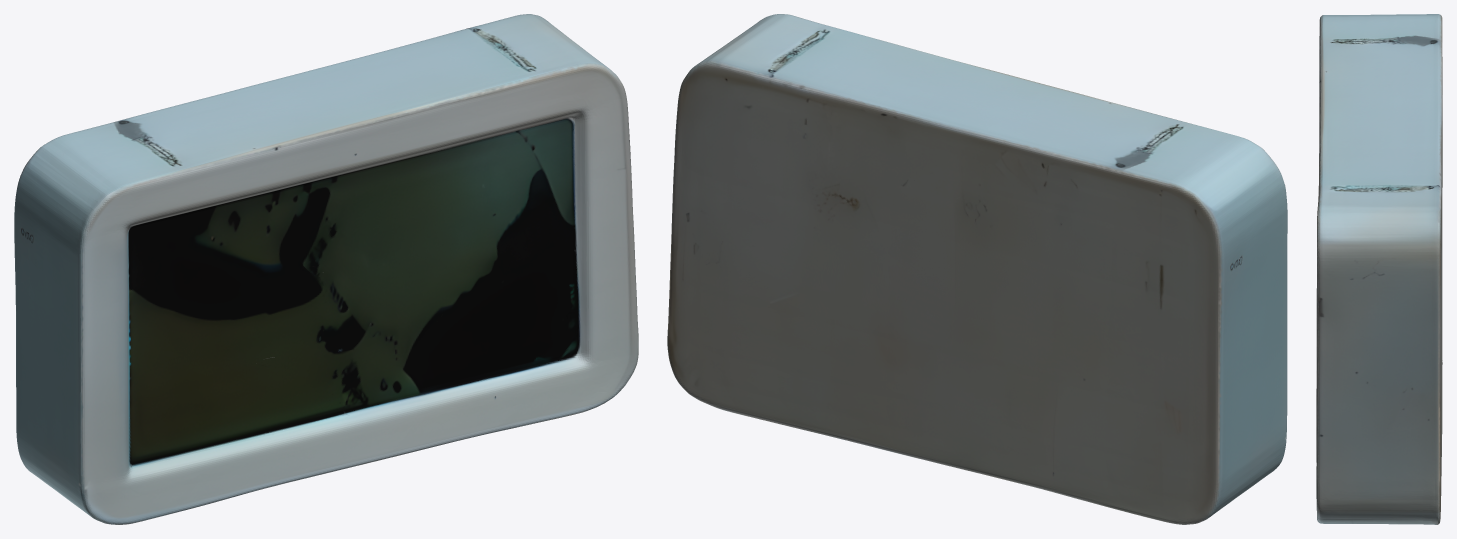
File: clock.obj
3 views of the same model, side by side, from view 1: azimuth 30°, elevation 25°; view 2: azimuth 150°, elevation 25°; view 3: azimuth 270°, elevation 25° (orthographic). The views are drawn at different scales.
Visible parts, largest first — view 1: texture_v100; view 2: texture_v100; view 3: texture_v100.
Part boxes in pixels (x1,y1,x2,y2): texture_v100: (14, 14, 638, 524); texture_v100: (667, 14, 1287, 524); texture_v100: (1316, 14, 1442, 524).
Bounding box in the file's own units: 1.07 × 0.6454 × 0.2351.
Materials: 1 (1 with a texture image).
